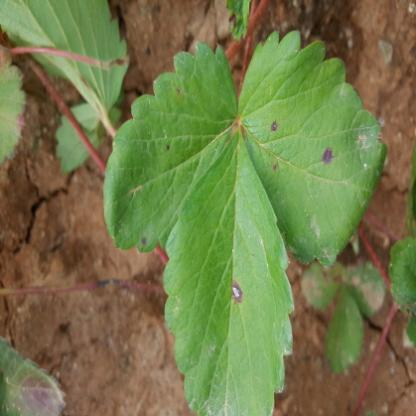Strawberry_Leaf_Spot: (162, 125, 294, 416), (238, 30, 388, 269), (103, 40, 238, 252), (0, 43, 29, 173), (300, 260, 346, 310)
